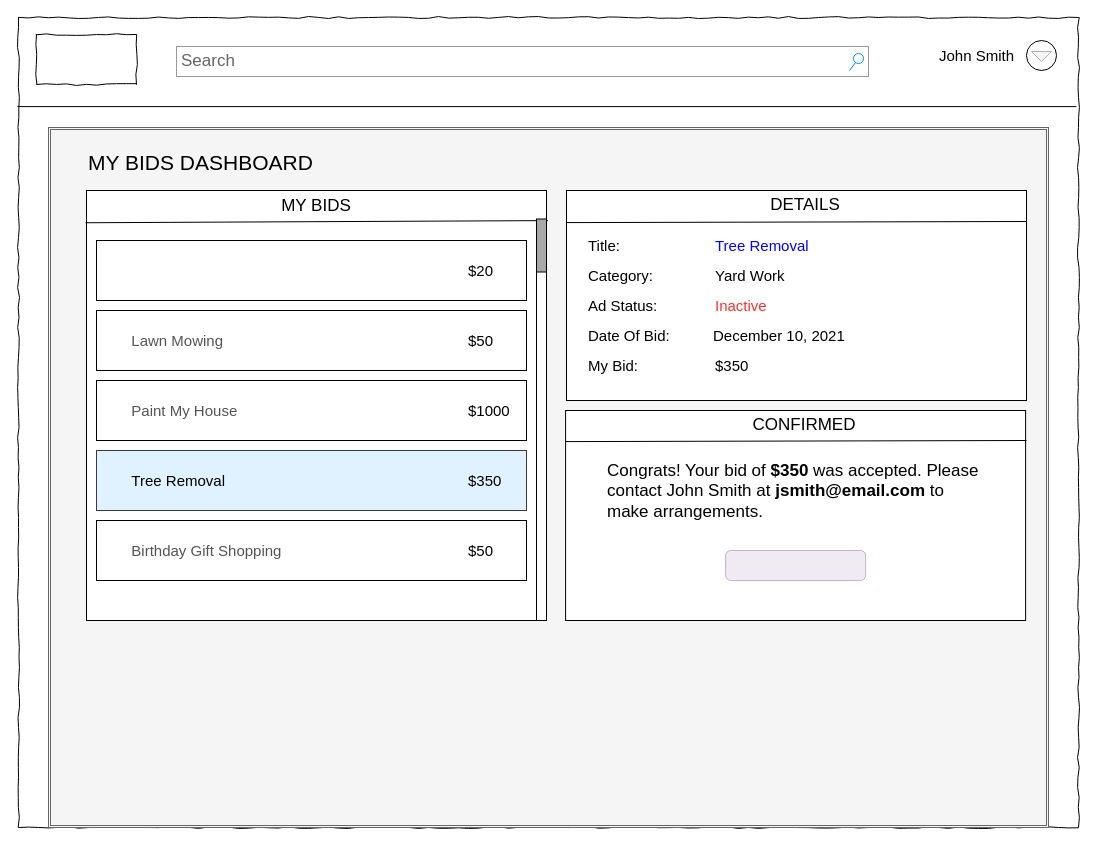
The diagram is 1097 pixels wide and 845 high, and some of its shapes have lost their labels. Each missing label, with the box of its shape:
Leave A Review: (725, 550, 866, 580)
LOGO: (36, 34, 136, 84)
Walk My Dog: (96, 240, 526, 300)
